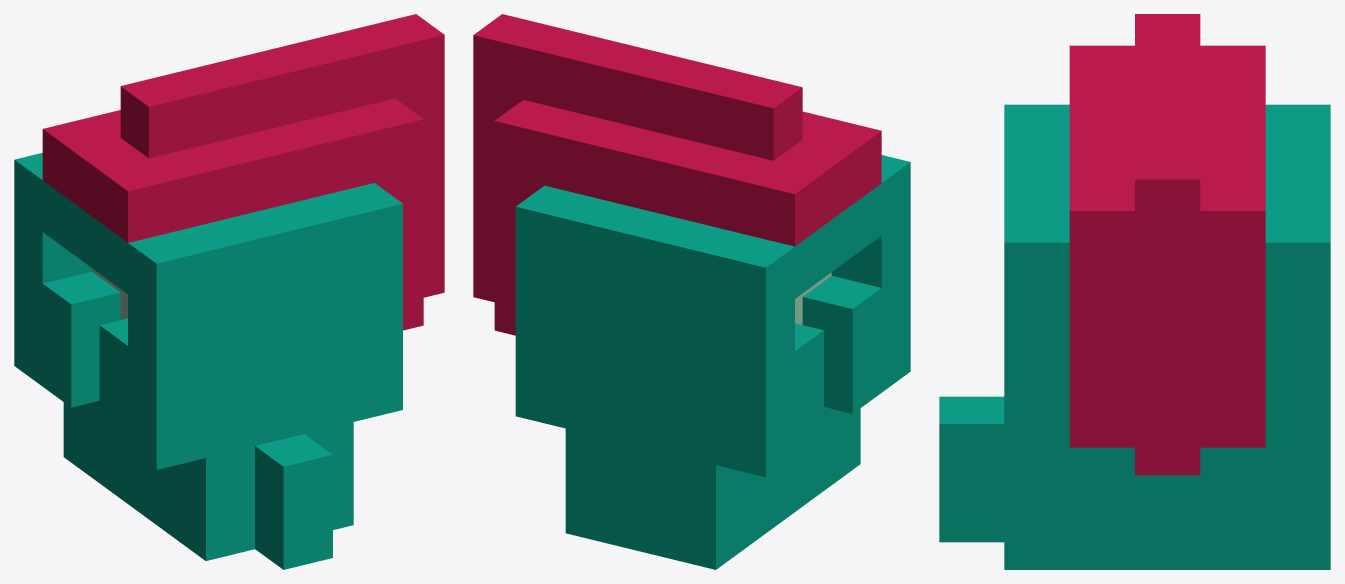
The model's file is PlayerBody.obj.
The picture shows the model from 3 angles, left to right: view 1: azimuth 30°, elevation 25°; view 2: azimuth 150°, elevation 25°; view 3: azimuth 270°, elevation 25°; orthographic projection. The views are drawn at different scales.
Bounding box in the file's own units: 0.7 × 0.8 × 0.6.
1 material, 1 textured.
